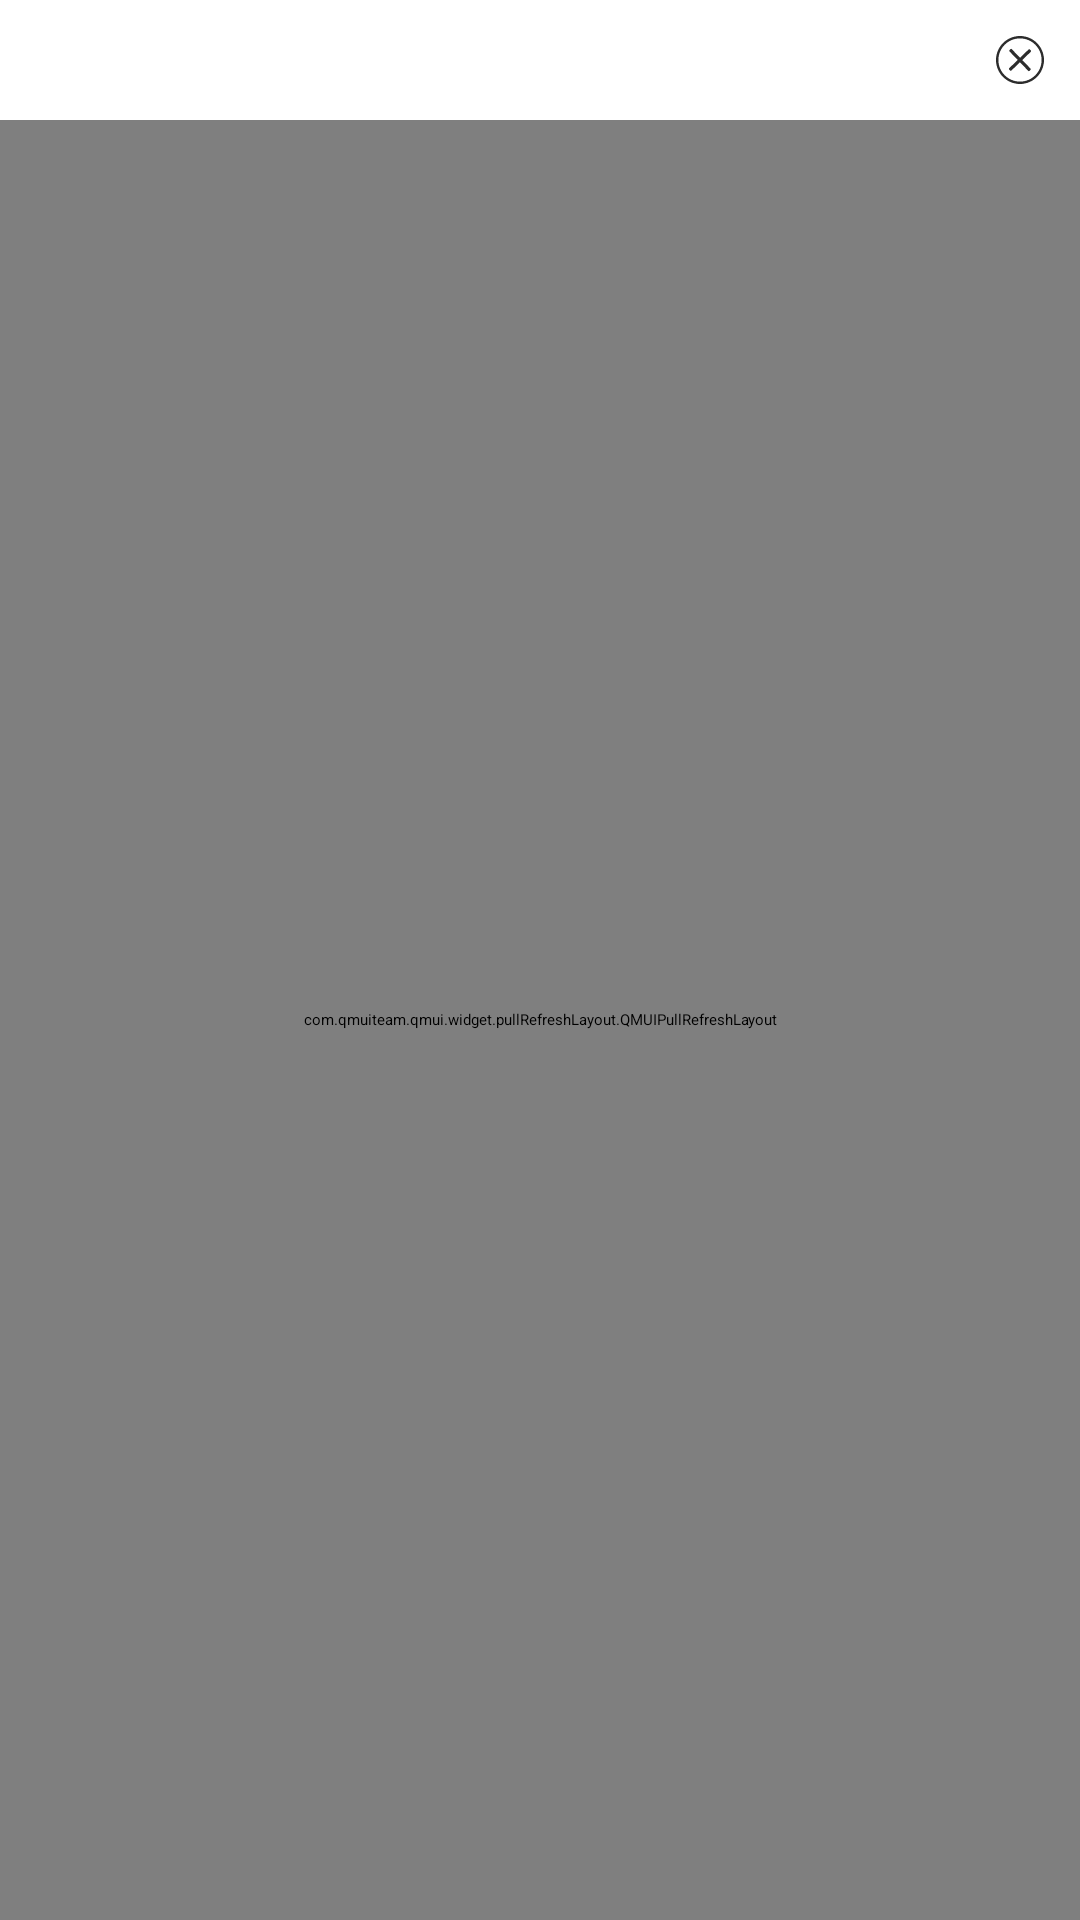

Point at icon controls on the screen. Image size 1080*1920, points as point (x, y).
close: point (1020, 60)
